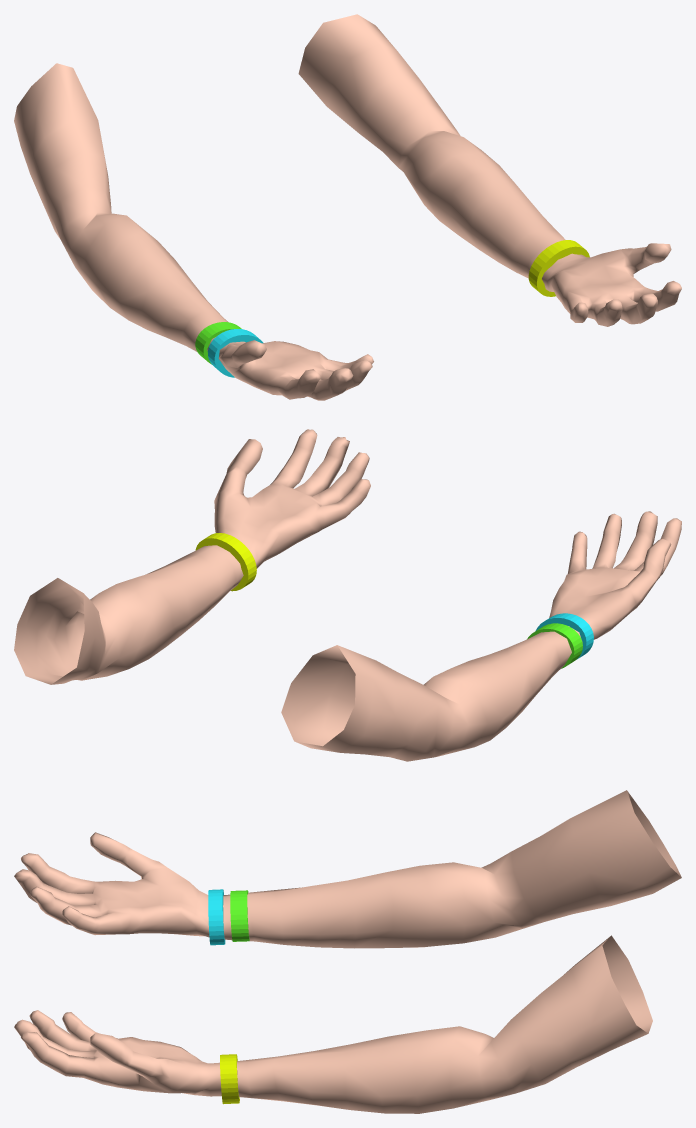
Rendered from Hands new.fbx.
The picture shows the model from 3 angles, top to bottom: view 1: azimuth 30°, elevation 25°; view 2: azimuth 150°, elevation 25°; view 3: azimuth 270°, elevation 25°; orthographic projection.
Parts seen in each view (by area): view 1: hands_left, hands_right; view 2: hands_right, hands_left; view 3: hands_right, hands_left.
Boxes of the visible parts, left/top/right/bottom form: hands_left: left=298, top=14, right=681, bottom=326; hands_right: left=14, top=63, right=373, bottom=400; hands_right: left=281, top=511, right=681, bottom=761; hands_left: left=14, top=429, right=370, bottom=684; hands_right: left=14, top=790, right=681, bottom=948; hands_left: left=14, top=935, right=652, bottom=1113.
Bounding box in the file's own units: 42.81 × 15.96 × 57.25.
